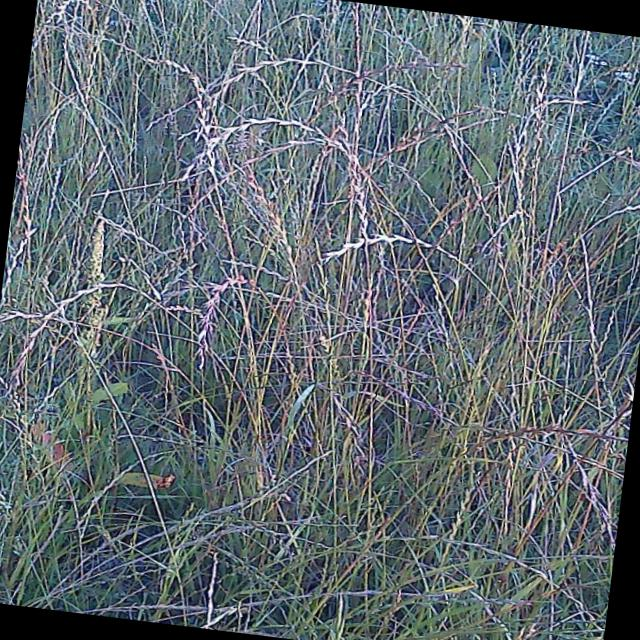Lolium: (292, 45, 455, 182), (13, 272, 127, 398), (183, 111, 326, 193), (209, 46, 358, 120), (322, 222, 468, 278), (186, 270, 256, 368), (86, 210, 188, 268), (220, 258, 319, 294), (154, 298, 216, 334), (57, 0, 97, 32)
